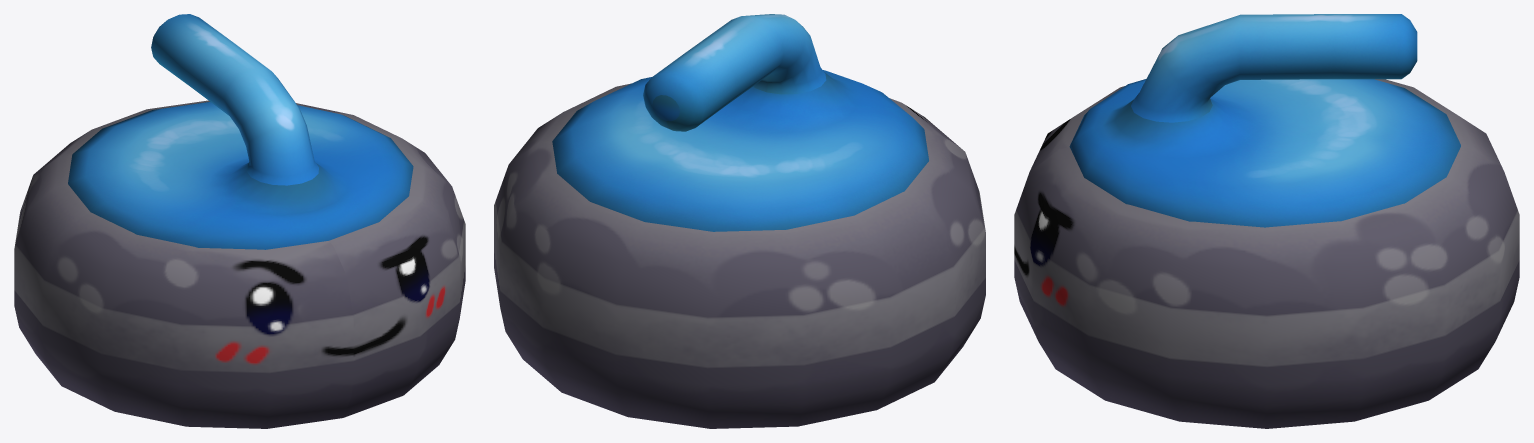
Rendered from RockFBX.fbx.
The picture shows the model from 3 angles, left to right: view 1: azimuth 30°, elevation 25°; view 2: azimuth 150°, elevation 25°; view 3: azimuth 270°, elevation 25°; orthographic projection. The views are drawn at different scales.
Visible parts, largest first — view 1: Cylinder; view 2: Cylinder; view 3: Cylinder.
Boxes of the visible parts, x1=… form: Cylinder: x1=14, y1=14, x2=465, y2=428; Cylinder: x1=494, y1=14, x2=985, y2=428; Cylinder: x1=1014, y1=14, x2=1519, y2=428.
Bounding box in the file's own units: 42.16 × 30.89 × 42.16.
Materials: 1 (1 with a texture image).
